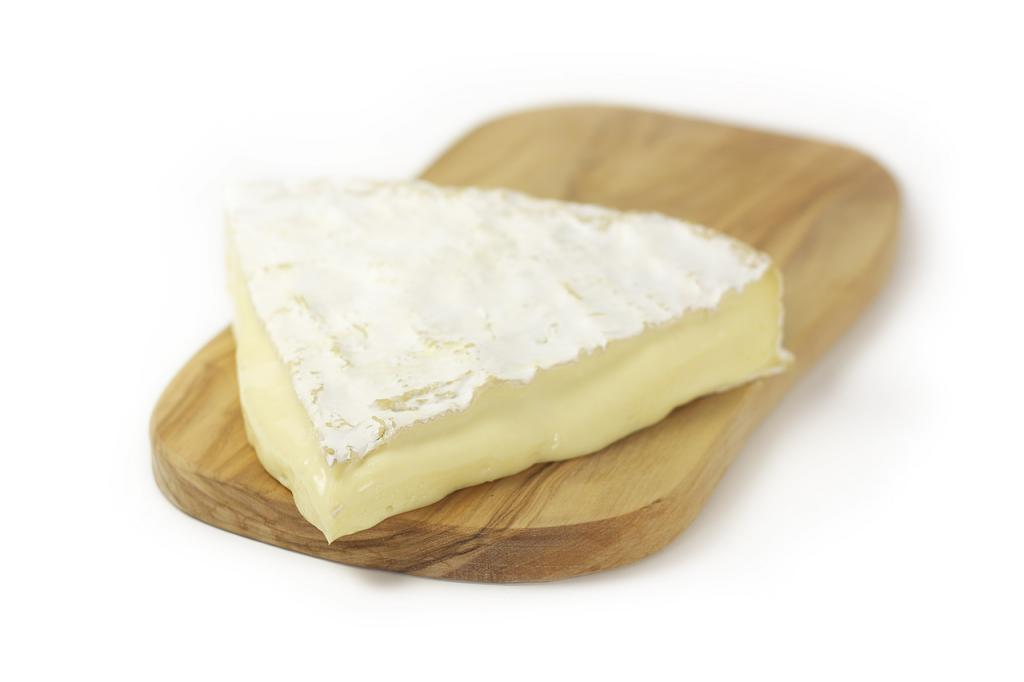cheese: (214, 130, 802, 517)
